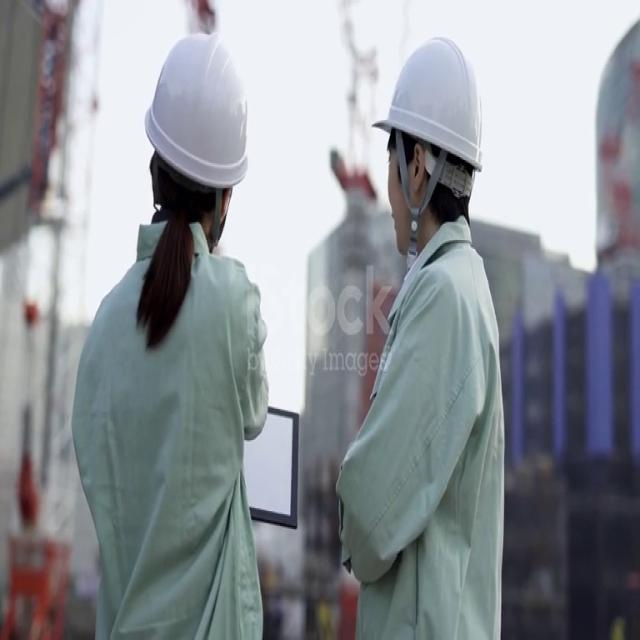capacete: (138, 18, 262, 195), (368, 12, 488, 178)
